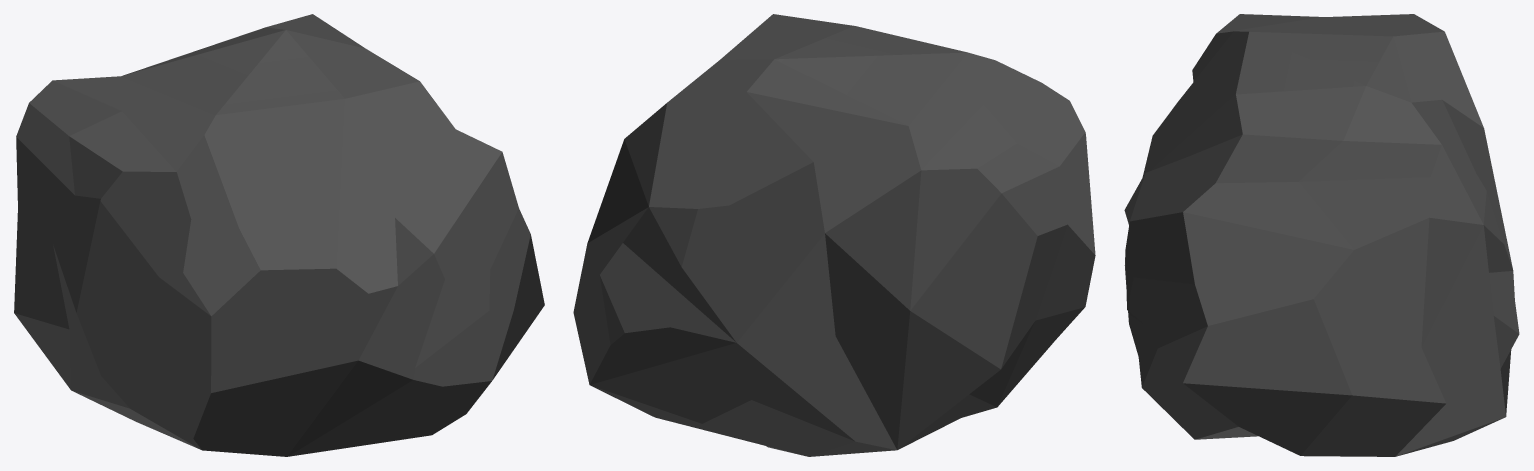
File: stone_1.fbx
3 views of the same model, side by side, from view 1: azimuth 30°, elevation 25°; view 2: azimuth 150°, elevation 25°; view 3: azimuth 270°, elevation 25° (orthographic). The views are drawn at different scales.
Visible parts, largest first — view 1: stone_1; view 2: stone_1; view 3: stone_1.
Boxes of the visible parts, left/top/right/bottom form: stone_1: left=14, top=14, right=544, bottom=456; stone_1: left=573, top=14, right=1095, bottom=456; stone_1: left=1124, top=14, right=1519, bottom=456.
Size of the model in its own units: 123 by 95.88 by 101.
